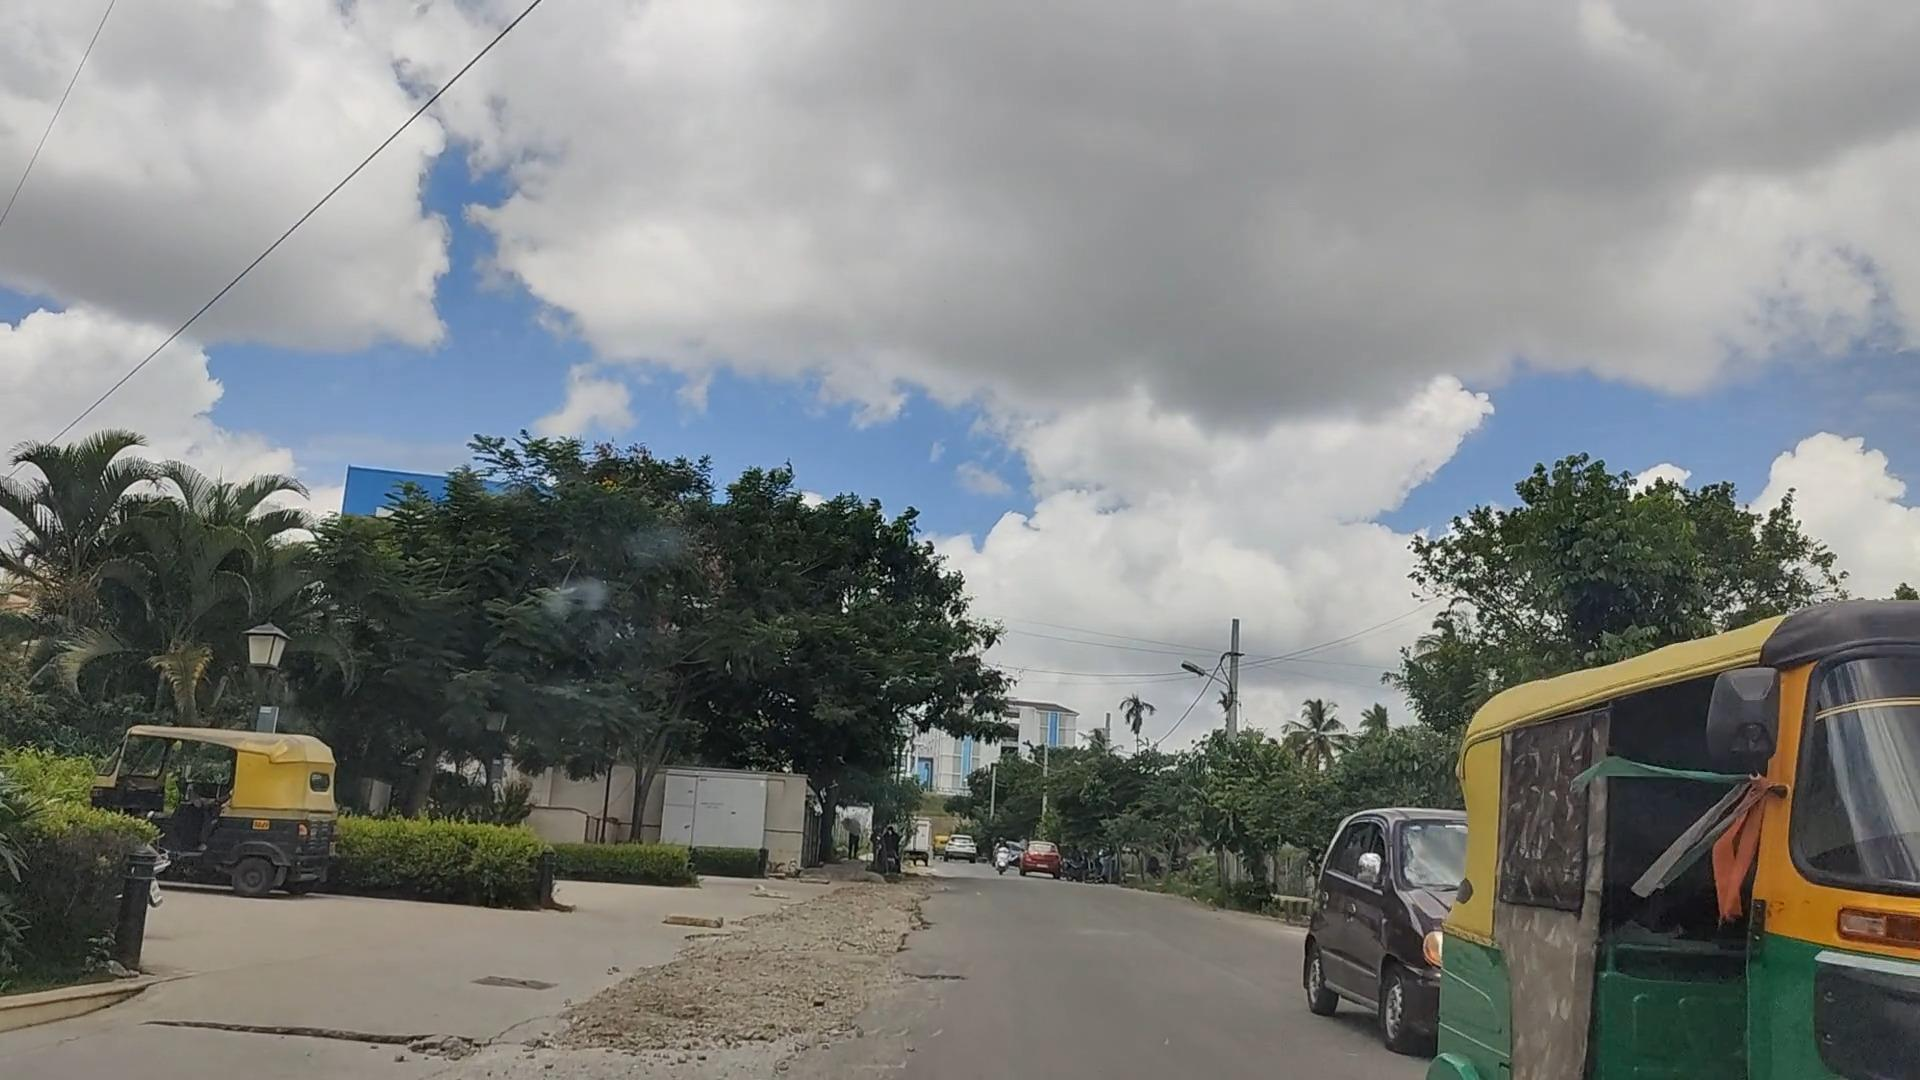RoadDamages: (728, 942, 964, 1080), (800, 875, 1039, 961)
